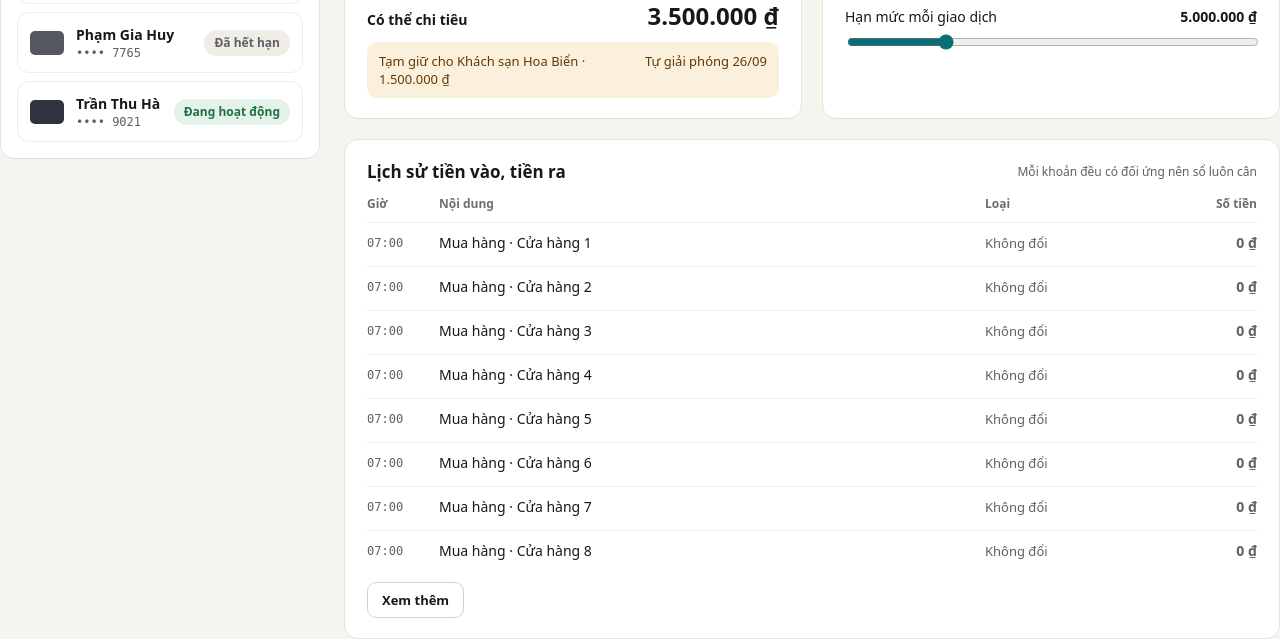
Test: CardsScreen (MCN-309, as in Cards.dc.html) › shows the newest 8 journals, then loads the next page by cursor MCN-309-AC1
(page scrolled)
Click the button "Xem thêm" at (416,600), box [367,582,464,618]
(page scrolled)
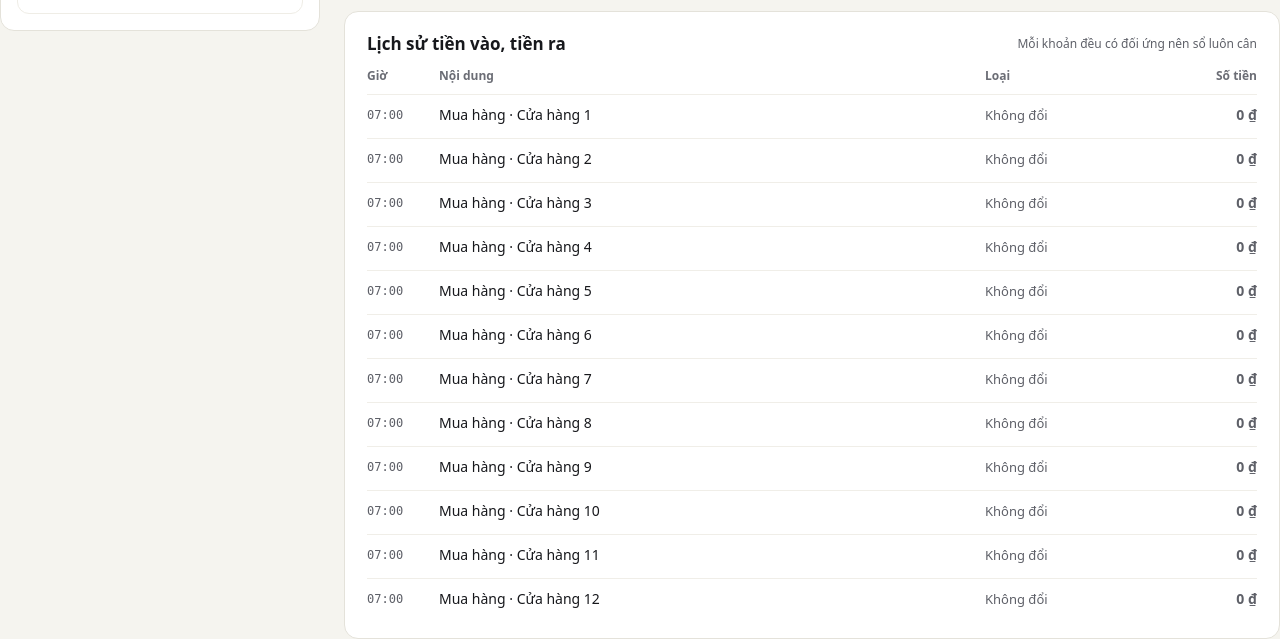
Result: the text "Mua hàng · Cửa hàng 12" is shown at [439,589,600,608]
Result: the number of rows is 13
Result: the button "Xem thêm" is gone
